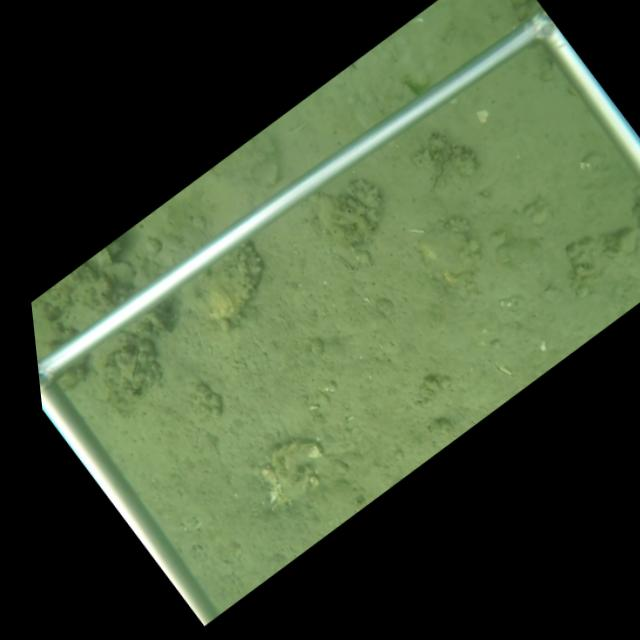Oyster-Closed: (431, 145, 461, 195), (126, 349, 144, 382)
Oyster-Indeterminate: (202, 241, 265, 323)
